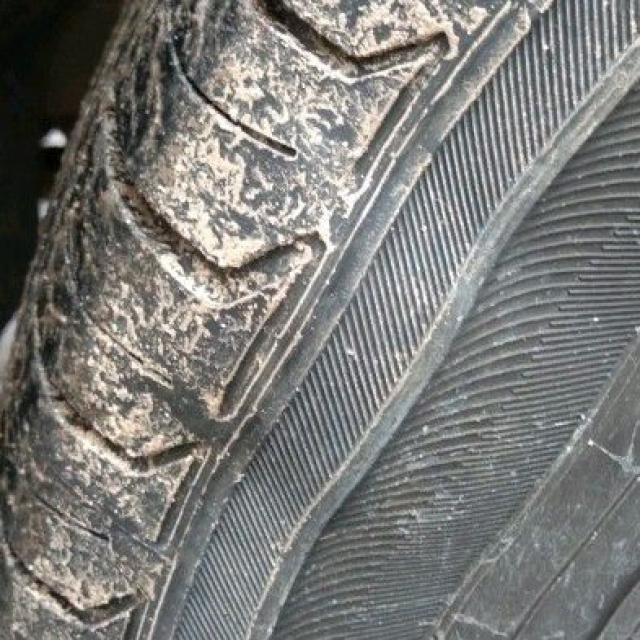Bulge: (233, 244, 600, 595)
